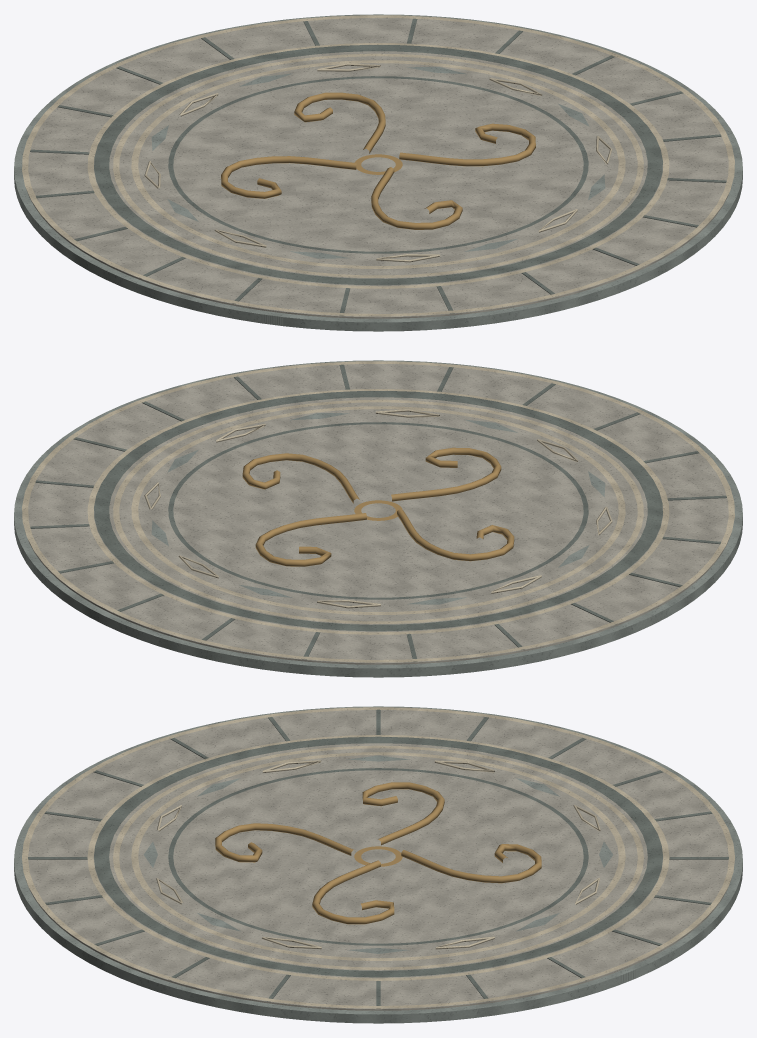
3 renders of one model, top to bottom at view 1: azimuth 30°, elevation 25°; view 2: azimuth 150°, elevation 25°; view 3: azimuth 270°, elevation 25°, orthographic.
Visible parts, largest first — view 1: C17_stone, C17_relief, C17_joint, C17_cool, C17_motif; view 2: C17_stone, C17_relief, C17_joint, C17_cool, C17_motif; view 3: C17_stone, C17_relief, C17_joint, C17_cool, C17_motif.
Boxes of the visible parts, x1,y1,x2,y2 form: C17_stone: [26, 18, 731, 318]; C17_relief: [22, 15, 734, 316]; C17_joint: [30, 18, 726, 315]; C17_cool: [14, 14, 742, 331]; C17_motif: [221, 92, 535, 229]; C17_stone: [25, 364, 730, 664]; C17_relief: [22, 361, 734, 662]; C17_joint: [30, 364, 726, 661]; C17_cool: [14, 360, 742, 677]; C17_motif: [242, 447, 514, 566]; C17_stone: [25, 710, 731, 1010]; C17_relief: [22, 707, 734, 1008]; C17_joint: [28, 709, 728, 1008]; C17_cool: [14, 706, 742, 1023]; C17_motif: [215, 782, 541, 924].
Size of the model in its own units: 6.2 by 0.1853 by 6.2.
5 materials, 4 textured.
